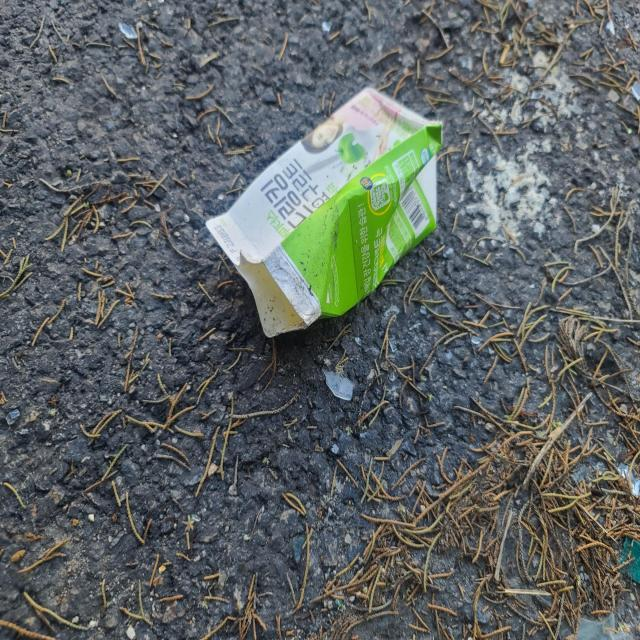paperpack: (206, 87, 442, 337)
